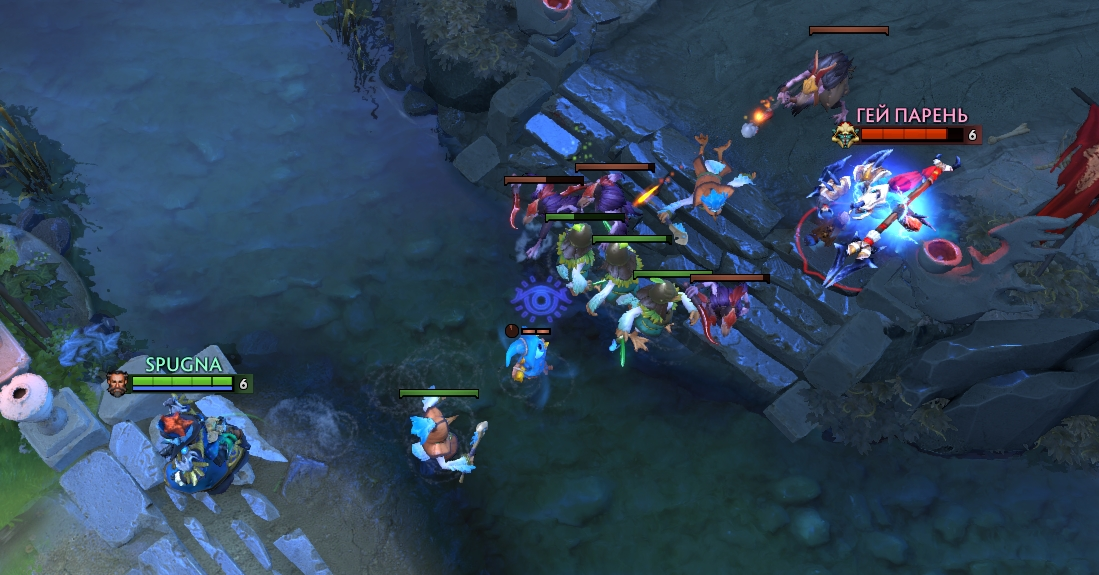allyCreep: (584, 230, 680, 249), (394, 383, 484, 402), (626, 263, 719, 279), (537, 210, 630, 224)
enemyCreep: (684, 268, 777, 286), (498, 171, 589, 188), (568, 159, 658, 175), (801, 24, 896, 39)
